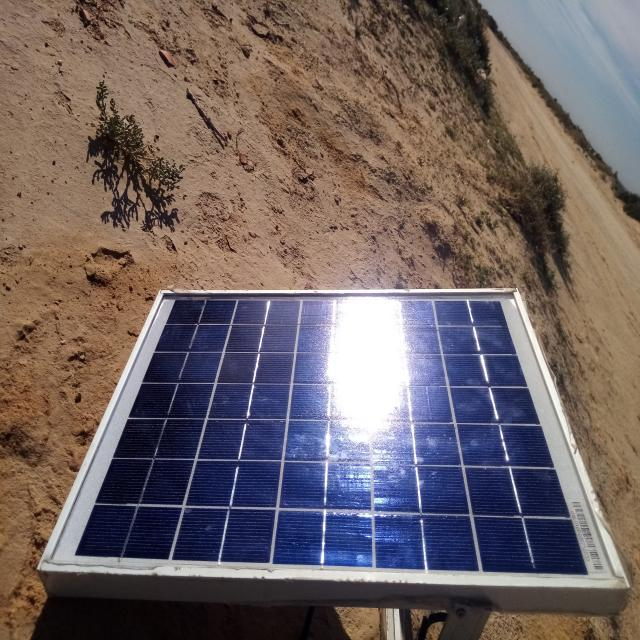no faulty: (42, 291, 625, 585)
